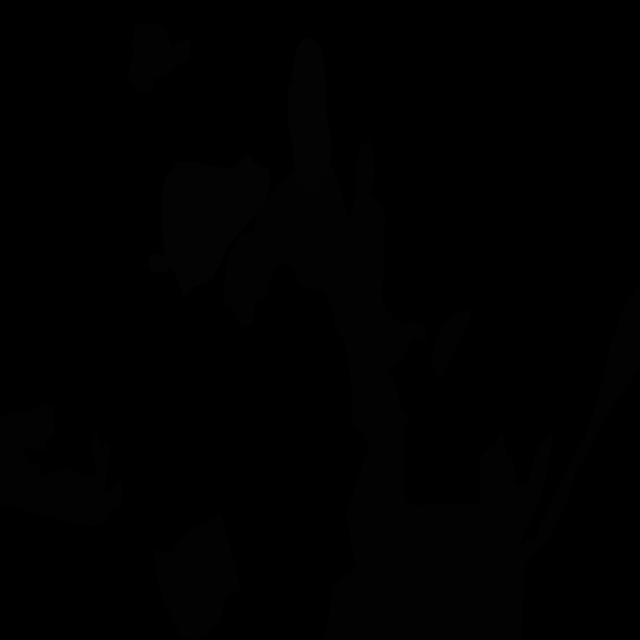cardboard: (322, 367, 552, 640), (224, 140, 427, 393), (512, 282, 640, 570), (0, 401, 123, 526), (154, 513, 240, 640), (128, 23, 191, 95), (431, 308, 472, 380)
metal: (148, 153, 270, 299), (287, 37, 332, 192)
